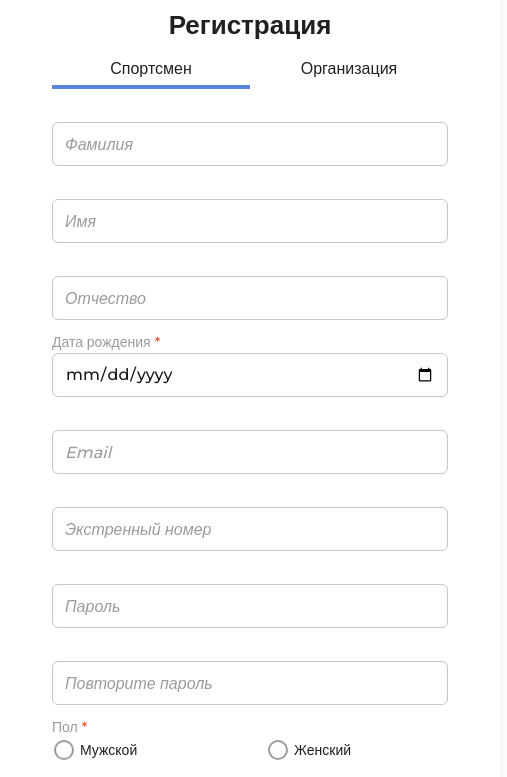
Test: SignUp › shows both user and organization forms on toggle
This screenshot has width=507, height=777.
Click the text "Организация" at (349, 69), box [301,59,397,78]
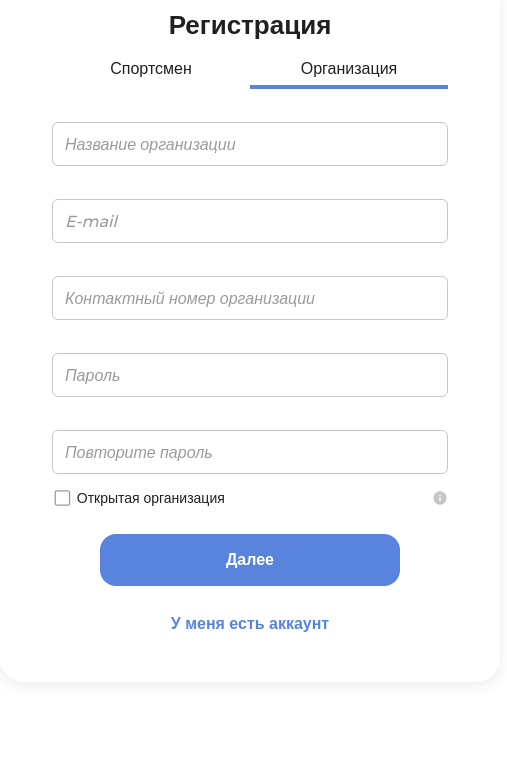
Result: the field labelled "Название организации *" is shown at [52,122,448,166]
Click the text "Спортсмен" at (151, 69), box [110,59,192,78]
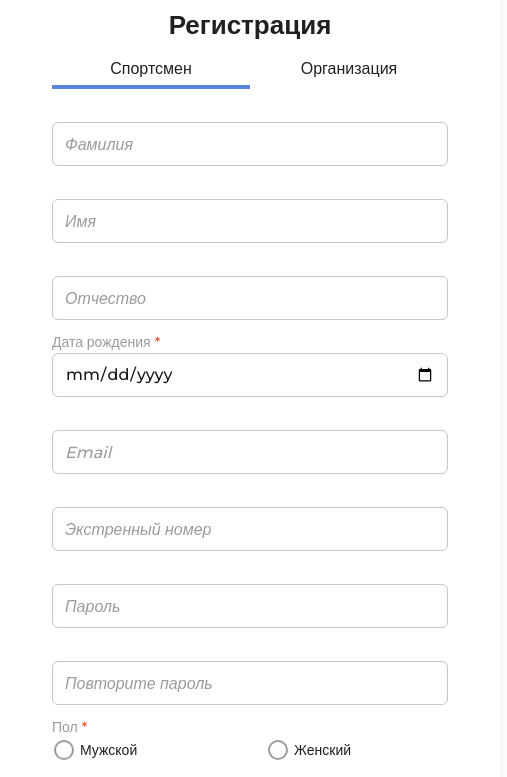
Result: the field labelled "Фамилия *" is shown at [52,122,448,166]
